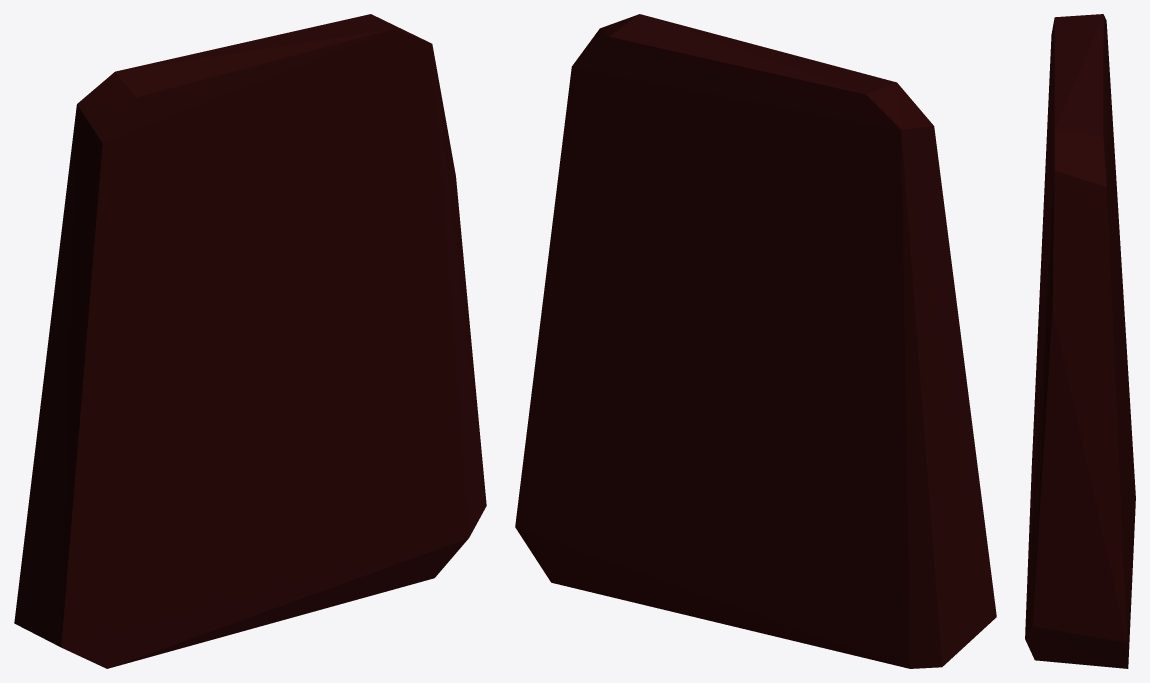
Rendered from UCX_Huge_Castle_Wall_ALT.fbx.
3 views of the same model, side by side, from view 1: azimuth 30°, elevation 25°; view 2: azimuth 150°, elevation 25°; view 3: azimuth 270°, elevation 25° (orthographic). The views are drawn at different scales.
Visible parts, largest first — view 1: UCX_Huge_Castle_Wall_ALT; view 2: UCX_Huge_Castle_Wall_ALT; view 3: UCX_Huge_Castle_Wall_ALT.
Part boxes in pixels (x1=…): UCX_Huge_Castle_Wall_ALT: x1=14, y1=14, x2=486, y2=668; UCX_Huge_Castle_Wall_ALT: x1=515, y1=14, x2=996, y2=668; UCX_Huge_Castle_Wall_ALT: x1=1025, y1=14, x2=1135, y2=668.
Size of the model in its own units: 956 by 1187 by 228.
